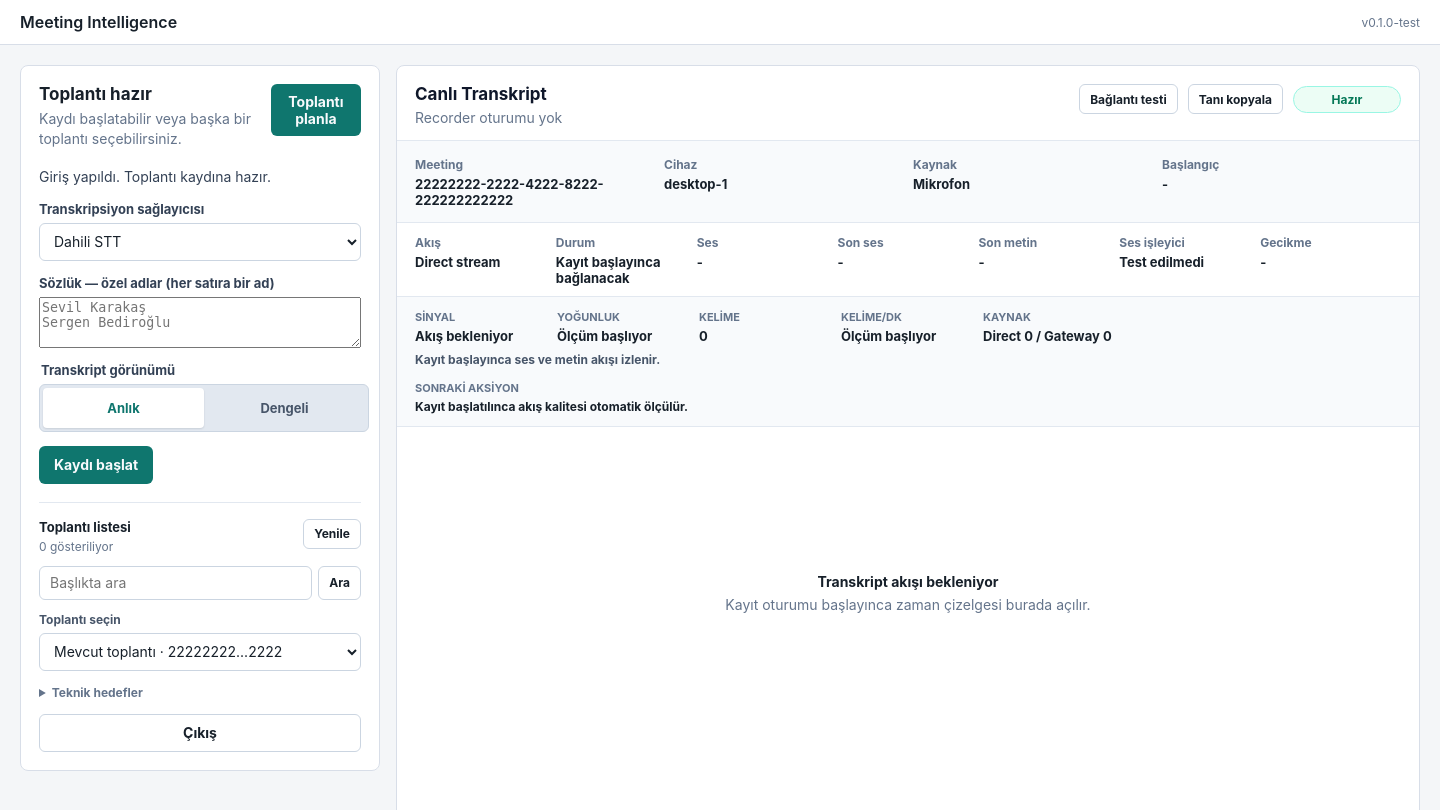
Test case: App recorder readiness › direct STT baglanti testini kayit oncesi calistirir
Click the button "Bağlantı testi" at (1128, 99), box [1079,84,1178,114]
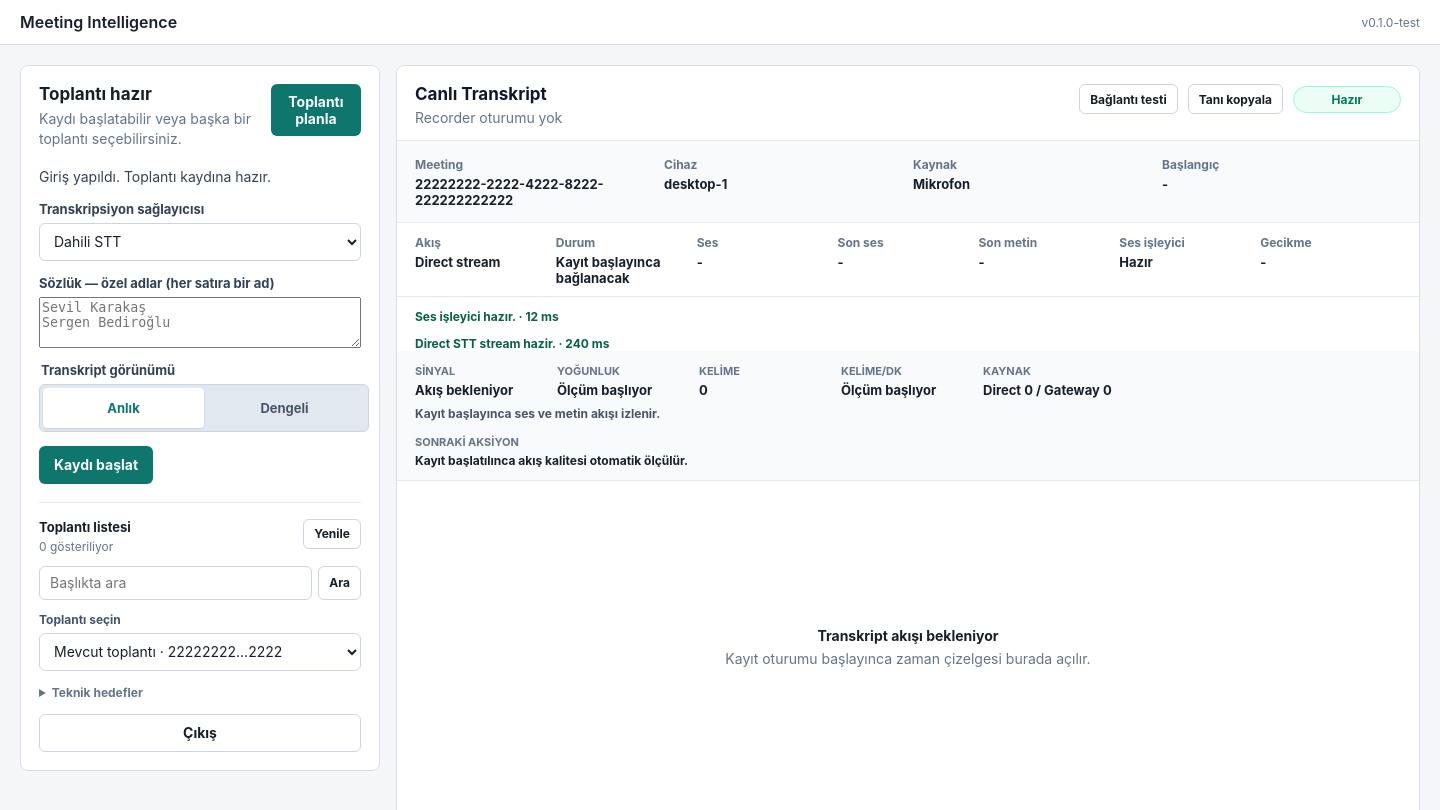
Expected: the text "Ses işleyici hazır. · 12 ms" is shown, [415,309,559,324]
Expected: the text "Direct STT stream hazir. · 240 ms" is shown, [415,336,610,351]
